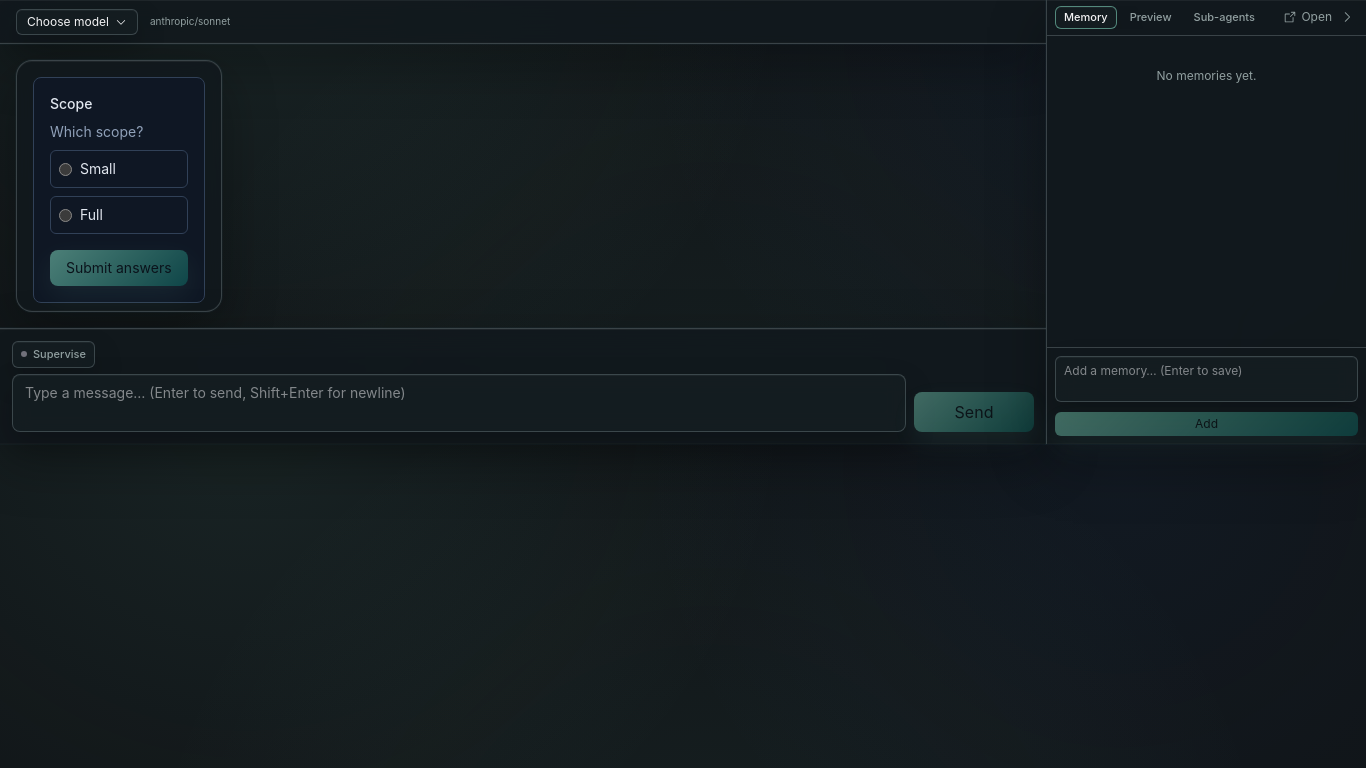
Scenario: ChatPanel › submits a native question answer without starting a continuation turn
This screenshot has width=1366, height=768.
Click the radio button labelled "Full" at (66, 216), box [59,209,72,222]
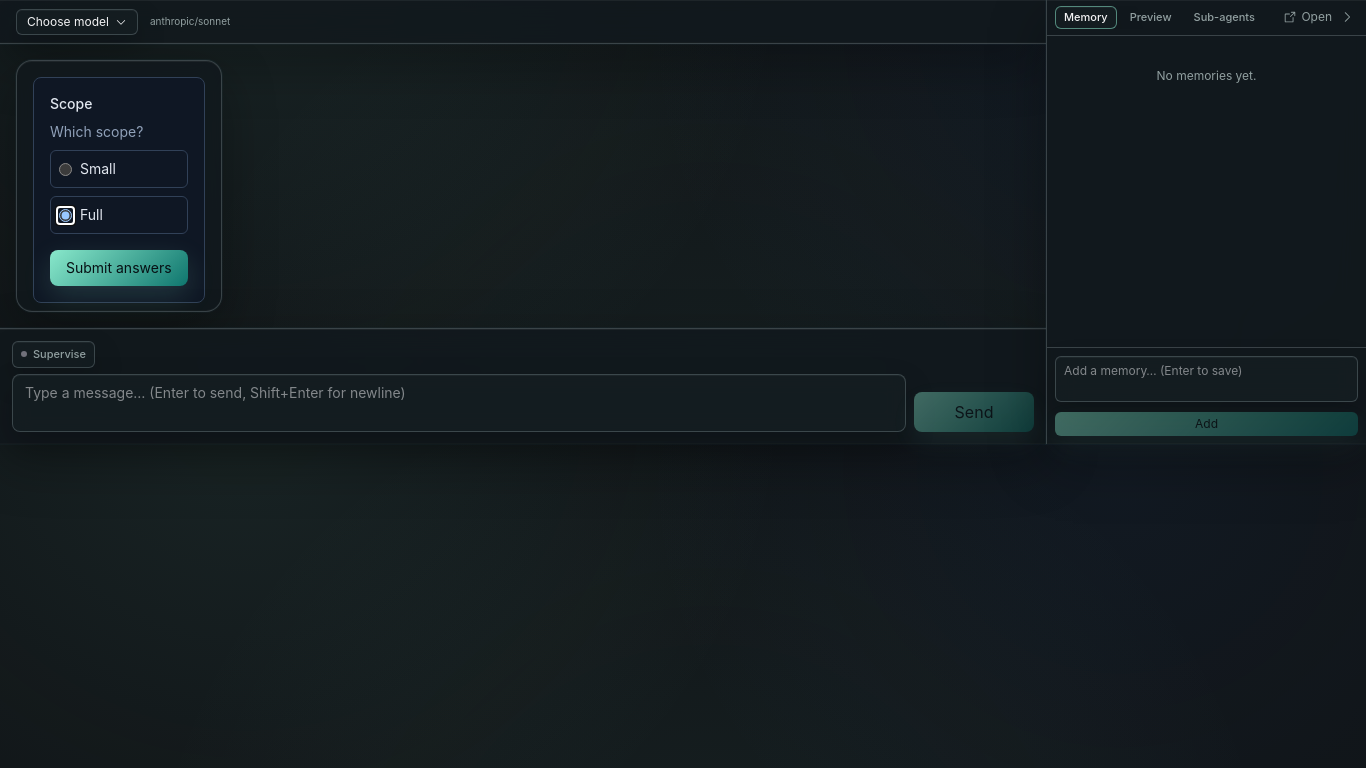
Click the button "Submit answers" at (119, 268), box [50,250,188,286]
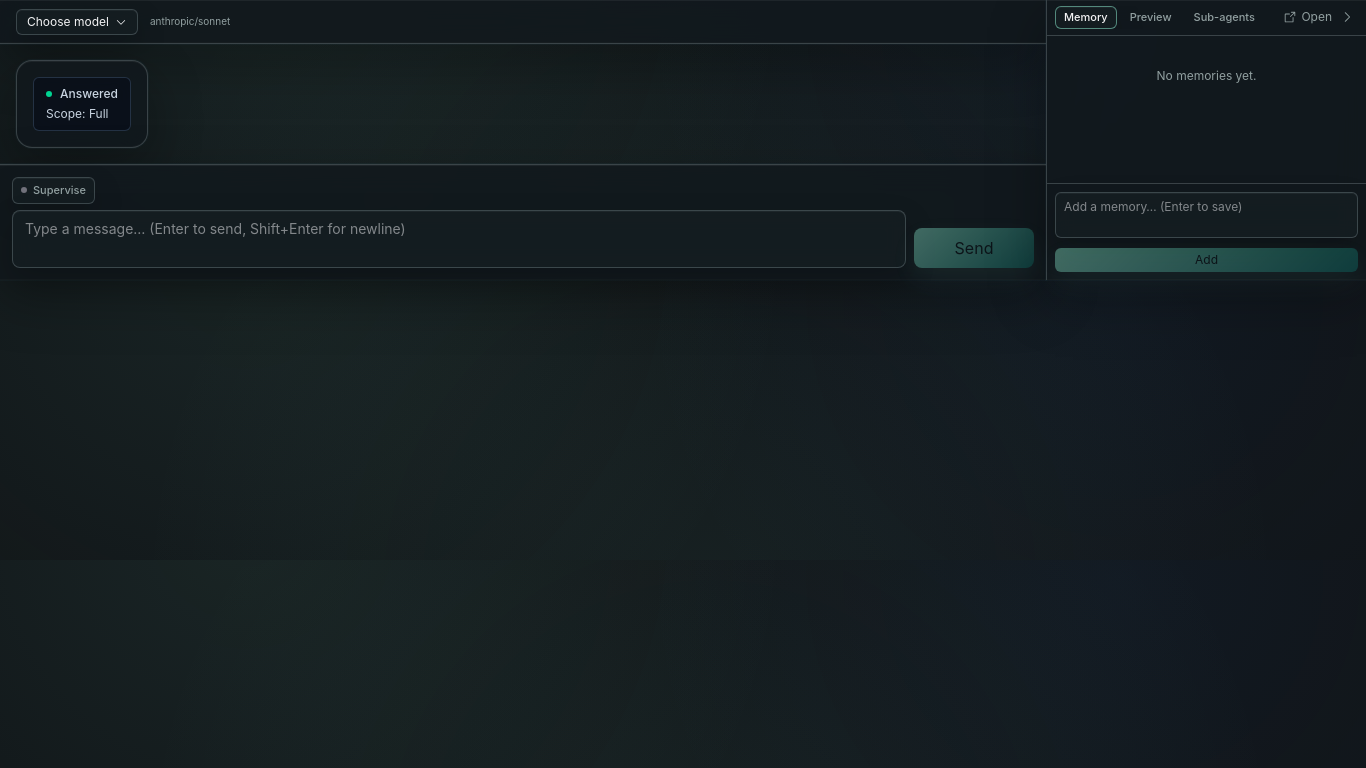
Expected: the button "Submit answers" is gone
Expected: the text "Answered" is shown, [60,86,118,102]
Expected: the list item "Scope: Full" is shown, [46,106,118,122]
